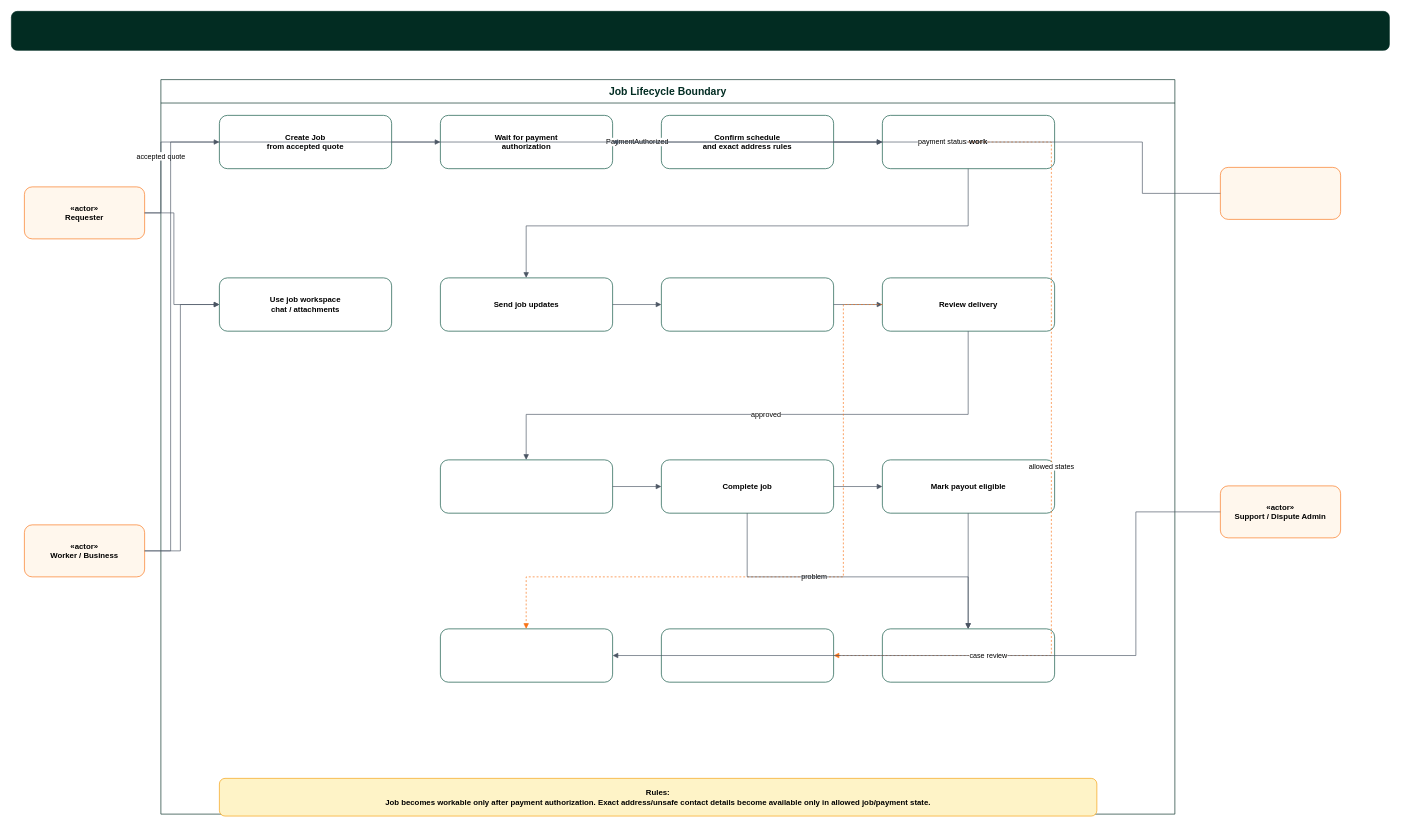
This 1401x827 diagram has some shape labels left out. Each missing label, with the centre of its shape:
"Approve delivery" belongs at (526,486).
"Cancel job" belongs at (747,655).
"Deliver work" belongs at (747,304).
"Emit events JobStarted / Delivered / Completed" belongs at (968,655).
"Open dispute" belongs at (526,655).
"Viaverse Job Lifecycle / Delivery Approval — Use Case Diagram" belongs at (700,30).
"«actor» payment-service" belongs at (1280,193).
